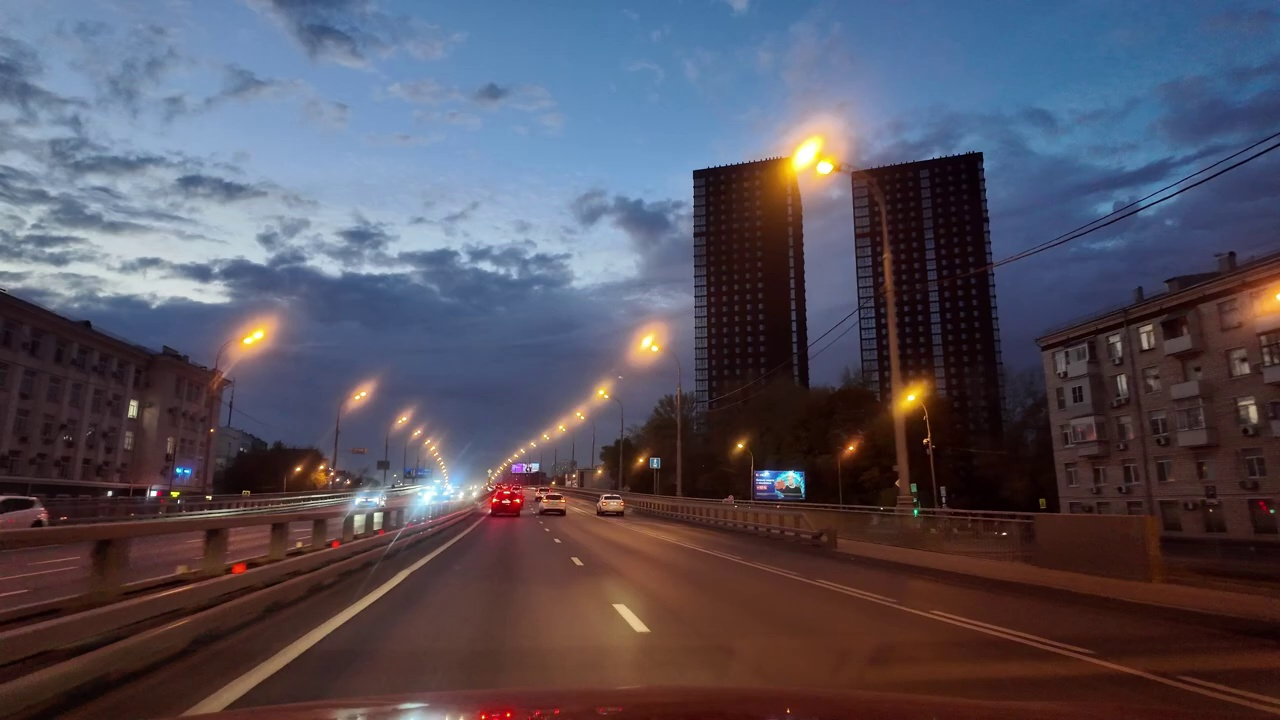acesa: (782, 129, 841, 191), (893, 377, 932, 423), (631, 326, 669, 368), (1246, 279, 1279, 327), (236, 317, 274, 357), (346, 375, 376, 410)
